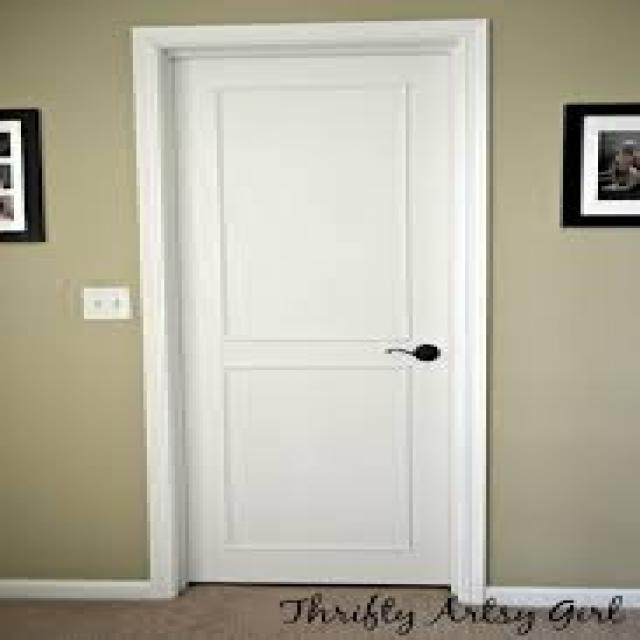Door: (140, 28, 476, 596)
